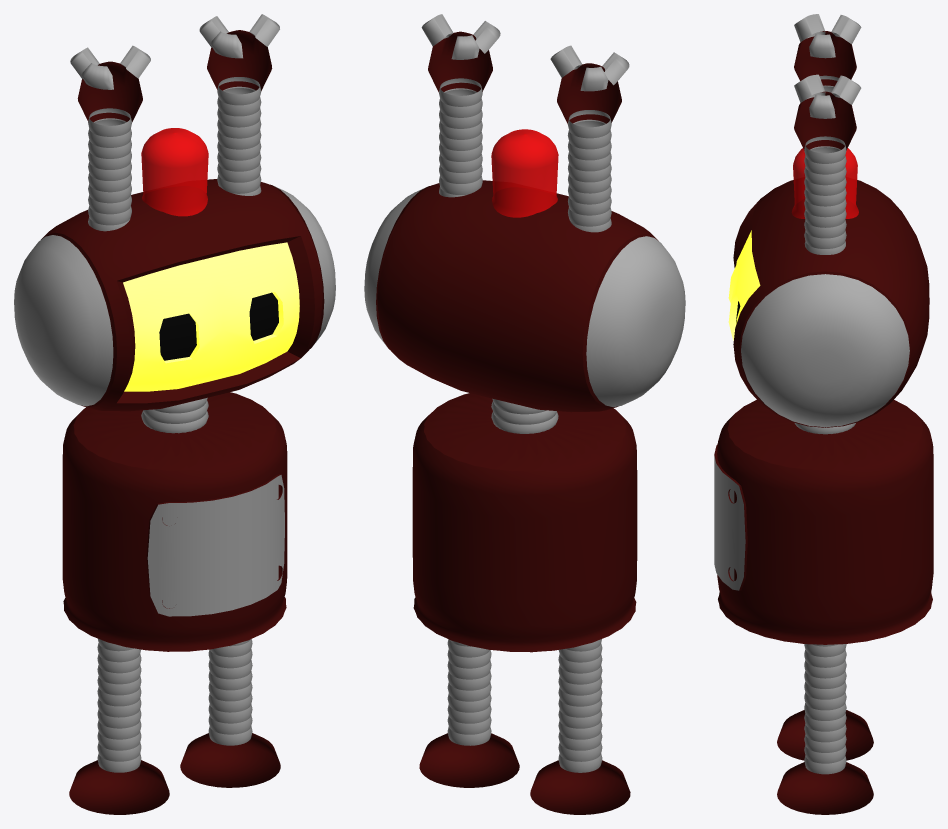
The model's file is RedRobot.fbx.
3 views of the same model, side by side, from view 1: azimuth 30°, elevation 25°; view 2: azimuth 150°, elevation 25°; view 3: azimuth 270°, elevation 25° (orthographic). The views are drawn at different scales.
Parts seen in each view (by area): view 1: Sphere, Cylinder, Circle.003, Circle.004, Circle.005, Circle.001, Circle.007, Circle.002, Circle.006, Circle; view 2: Sphere, Cylinder, Circle.003, Circle.004, Circle.005, Circle.001, Circle.007, Circle.006, Circle.002, Circle; view 3: Cylinder, Sphere, Circle.004, Circle.003, Circle.007, Circle.006, Circle.002, Circle.005.
Boxes of the visible parts, left/top/right/bottom form: Sphere: left=14, top=179, right=335, bottom=411; Cylinder: left=62, top=392, right=287, bottom=651; Circle.003: left=97, top=638, right=252, bottom=772; Circle.004: left=69, top=733, right=280, bottom=814; Circle.005: left=141, top=128, right=208, bottom=216; Circle.001: left=88, top=108, right=131, bottom=231; Circle.007: left=217, top=77, right=261, bottom=195; Circle.002: left=70, top=45, right=150, bottom=122; Circle.006: left=199, top=14, right=279, bottom=91; Circle: left=141, top=397, right=208, bottom=433; Sphere: left=364, top=180, right=685, bottom=412; Cylinder: left=412, top=393, right=637, bottom=652; Circle.003: left=447, top=639, right=602, bottom=772; Circle.004: left=419, top=733, right=630, bottom=814; Circle.005: left=491, top=129, right=558, bottom=217; Circle.001: left=567, top=110, right=611, bottom=232; Circle.007: left=439, top=78, right=482, bottom=197; Circle.006: left=421, top=14, right=500, bottom=92; Circle.002: left=550, top=45, right=629, bottom=123; Circle: left=491, top=398, right=558, bottom=433; Cylinder: left=714, top=400, right=933, bottom=644; Sphere: left=728, top=180, right=929, bottom=427; Circle.004: left=777, top=710, right=873, bottom=814; Circle.003: left=804, top=644, right=846, bottom=774; Circle.007: left=804, top=136, right=846, bottom=254; Circle.006: left=794, top=74, right=861, bottom=150; Circle.002: left=794, top=14, right=861, bottom=86; Circle.005: left=791, top=148, right=858, bottom=218.
Size of the model in its own units: 245 by 348 by 879.
